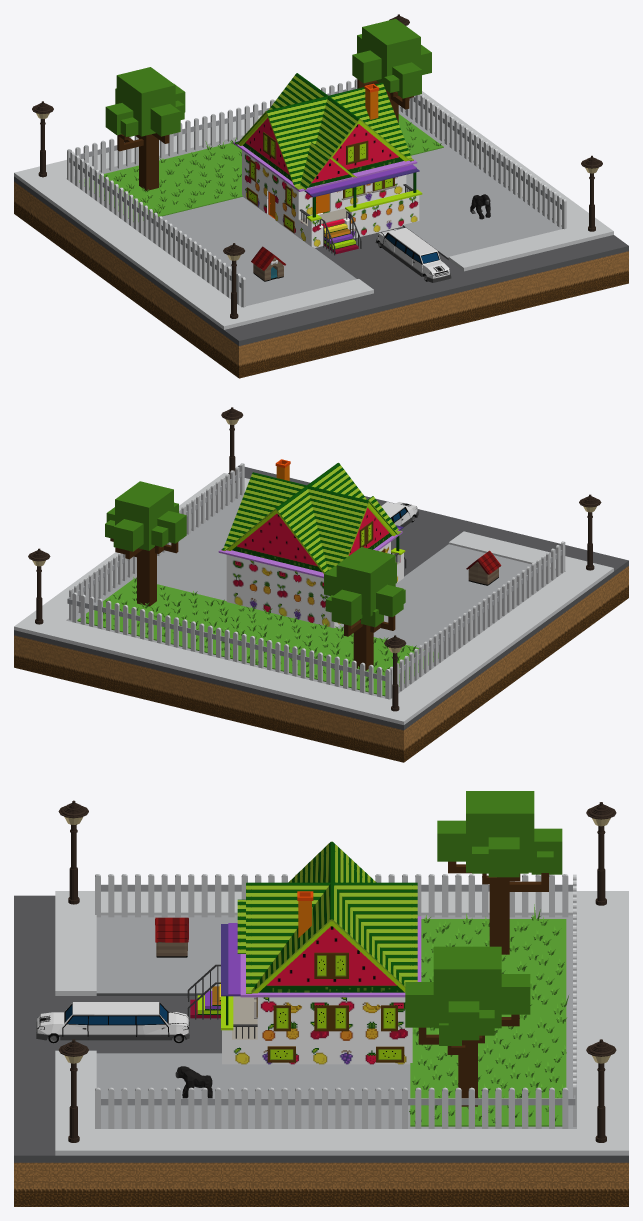
3 views of the same model, one above another, from view 1: azimuth 30°, elevation 25°; view 2: azimuth 150°, elevation 25°; view 3: azimuth 270°, elevation 25° (orthographic). The views are drawn at different scales.
Visible parts, largest first — view 1: Cube.004, Cube.1063, VEHICLES_LIMOUSINE, OBJRANDOM_DOGHOUSE; view 2: Cube.004, Cube.1063, OBJRANDOM_DOGHOUSE, VEHICLES_LIMOUSINE; view 3: Cube.004, Cube.1063, VEHICLES_LIMOUSINE, OBJRANDOM_DOGHOUSE, ANIMAL_GORILA.
Boxes of the visible parts, left/top/right/bottom form: Cube.004: left=14, top=14, right=628, bottom=378; Cube.1063: left=233, top=73, right=422, bottom=255; VEHICLES_LIMOUSINE: left=375, top=227, right=451, bottom=282; OBJRANDOM_DOGHOUSE: left=251, top=246, right=285, bottom=281; Cube.004: left=14, top=407, right=628, bottom=762; Cube.1063: left=218, top=459, right=406, bottom=627; OBJRANDOM_DOGHOUSE: left=466, top=550, right=501, bottom=585; VEHICLES_LIMOUSINE: left=381, top=502, right=418, bottom=527; Cube.004: left=14, top=791, right=628, bottom=1206; Cube.1063: left=187, top=841, right=421, bottom=1064; VEHICLES_LIMOUSINE: left=36, top=1002, right=189, bottom=1043; OBJRANDOM_DOGHOUSE: left=155, top=917, right=188, bottom=957; ANIMAL_GORILA: left=175, top=1066, right=212, bottom=1098.
Bounding box in the file's own units: 4000 × 1753 × 4000.
36 materials, 5 textured.
